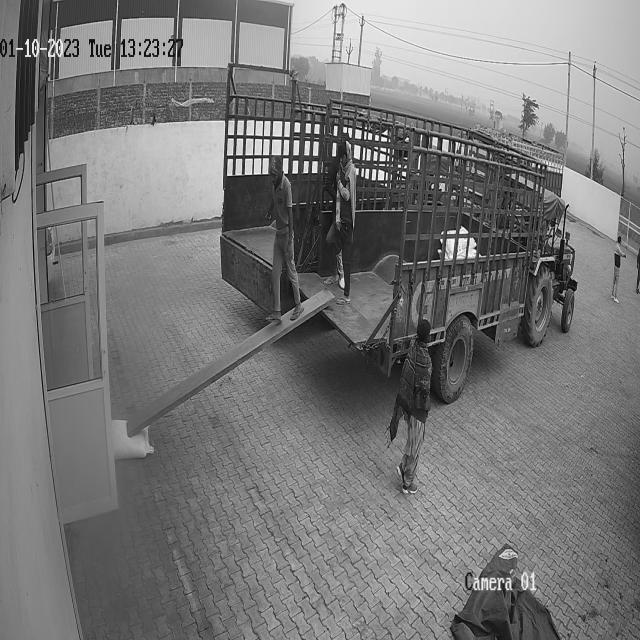sack: (111, 418, 155, 460)
